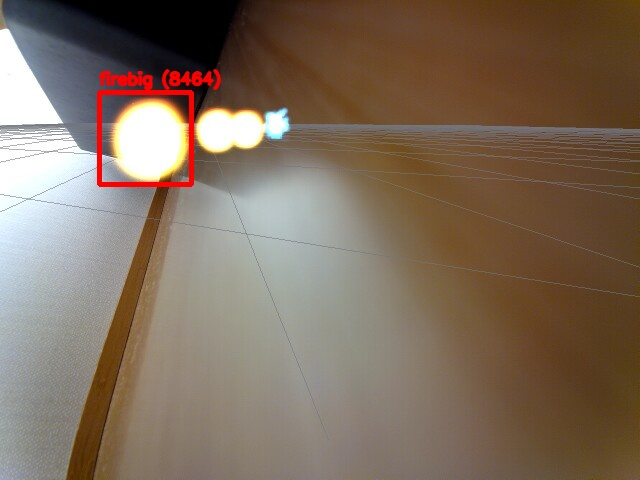firebig: (99, 92, 191, 184)
